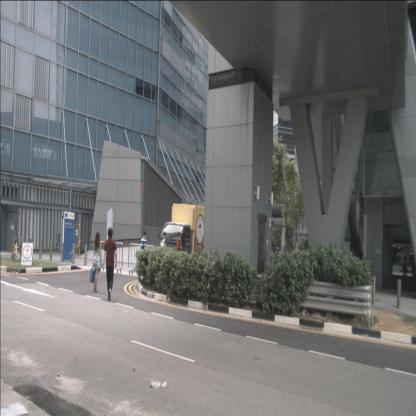human-pedestrian-adult: (102, 227, 118, 301), (90, 231, 102, 293), (160, 232, 168, 278), (140, 231, 148, 277), (176, 233, 182, 274), (275, 244, 280, 268), (403, 256, 408, 279), (411, 258, 416, 280), (402, 257, 406, 278)
vehicle-bicycle: (11, 233, 22, 262)
vehicle-truck: (160, 202, 218, 266)
